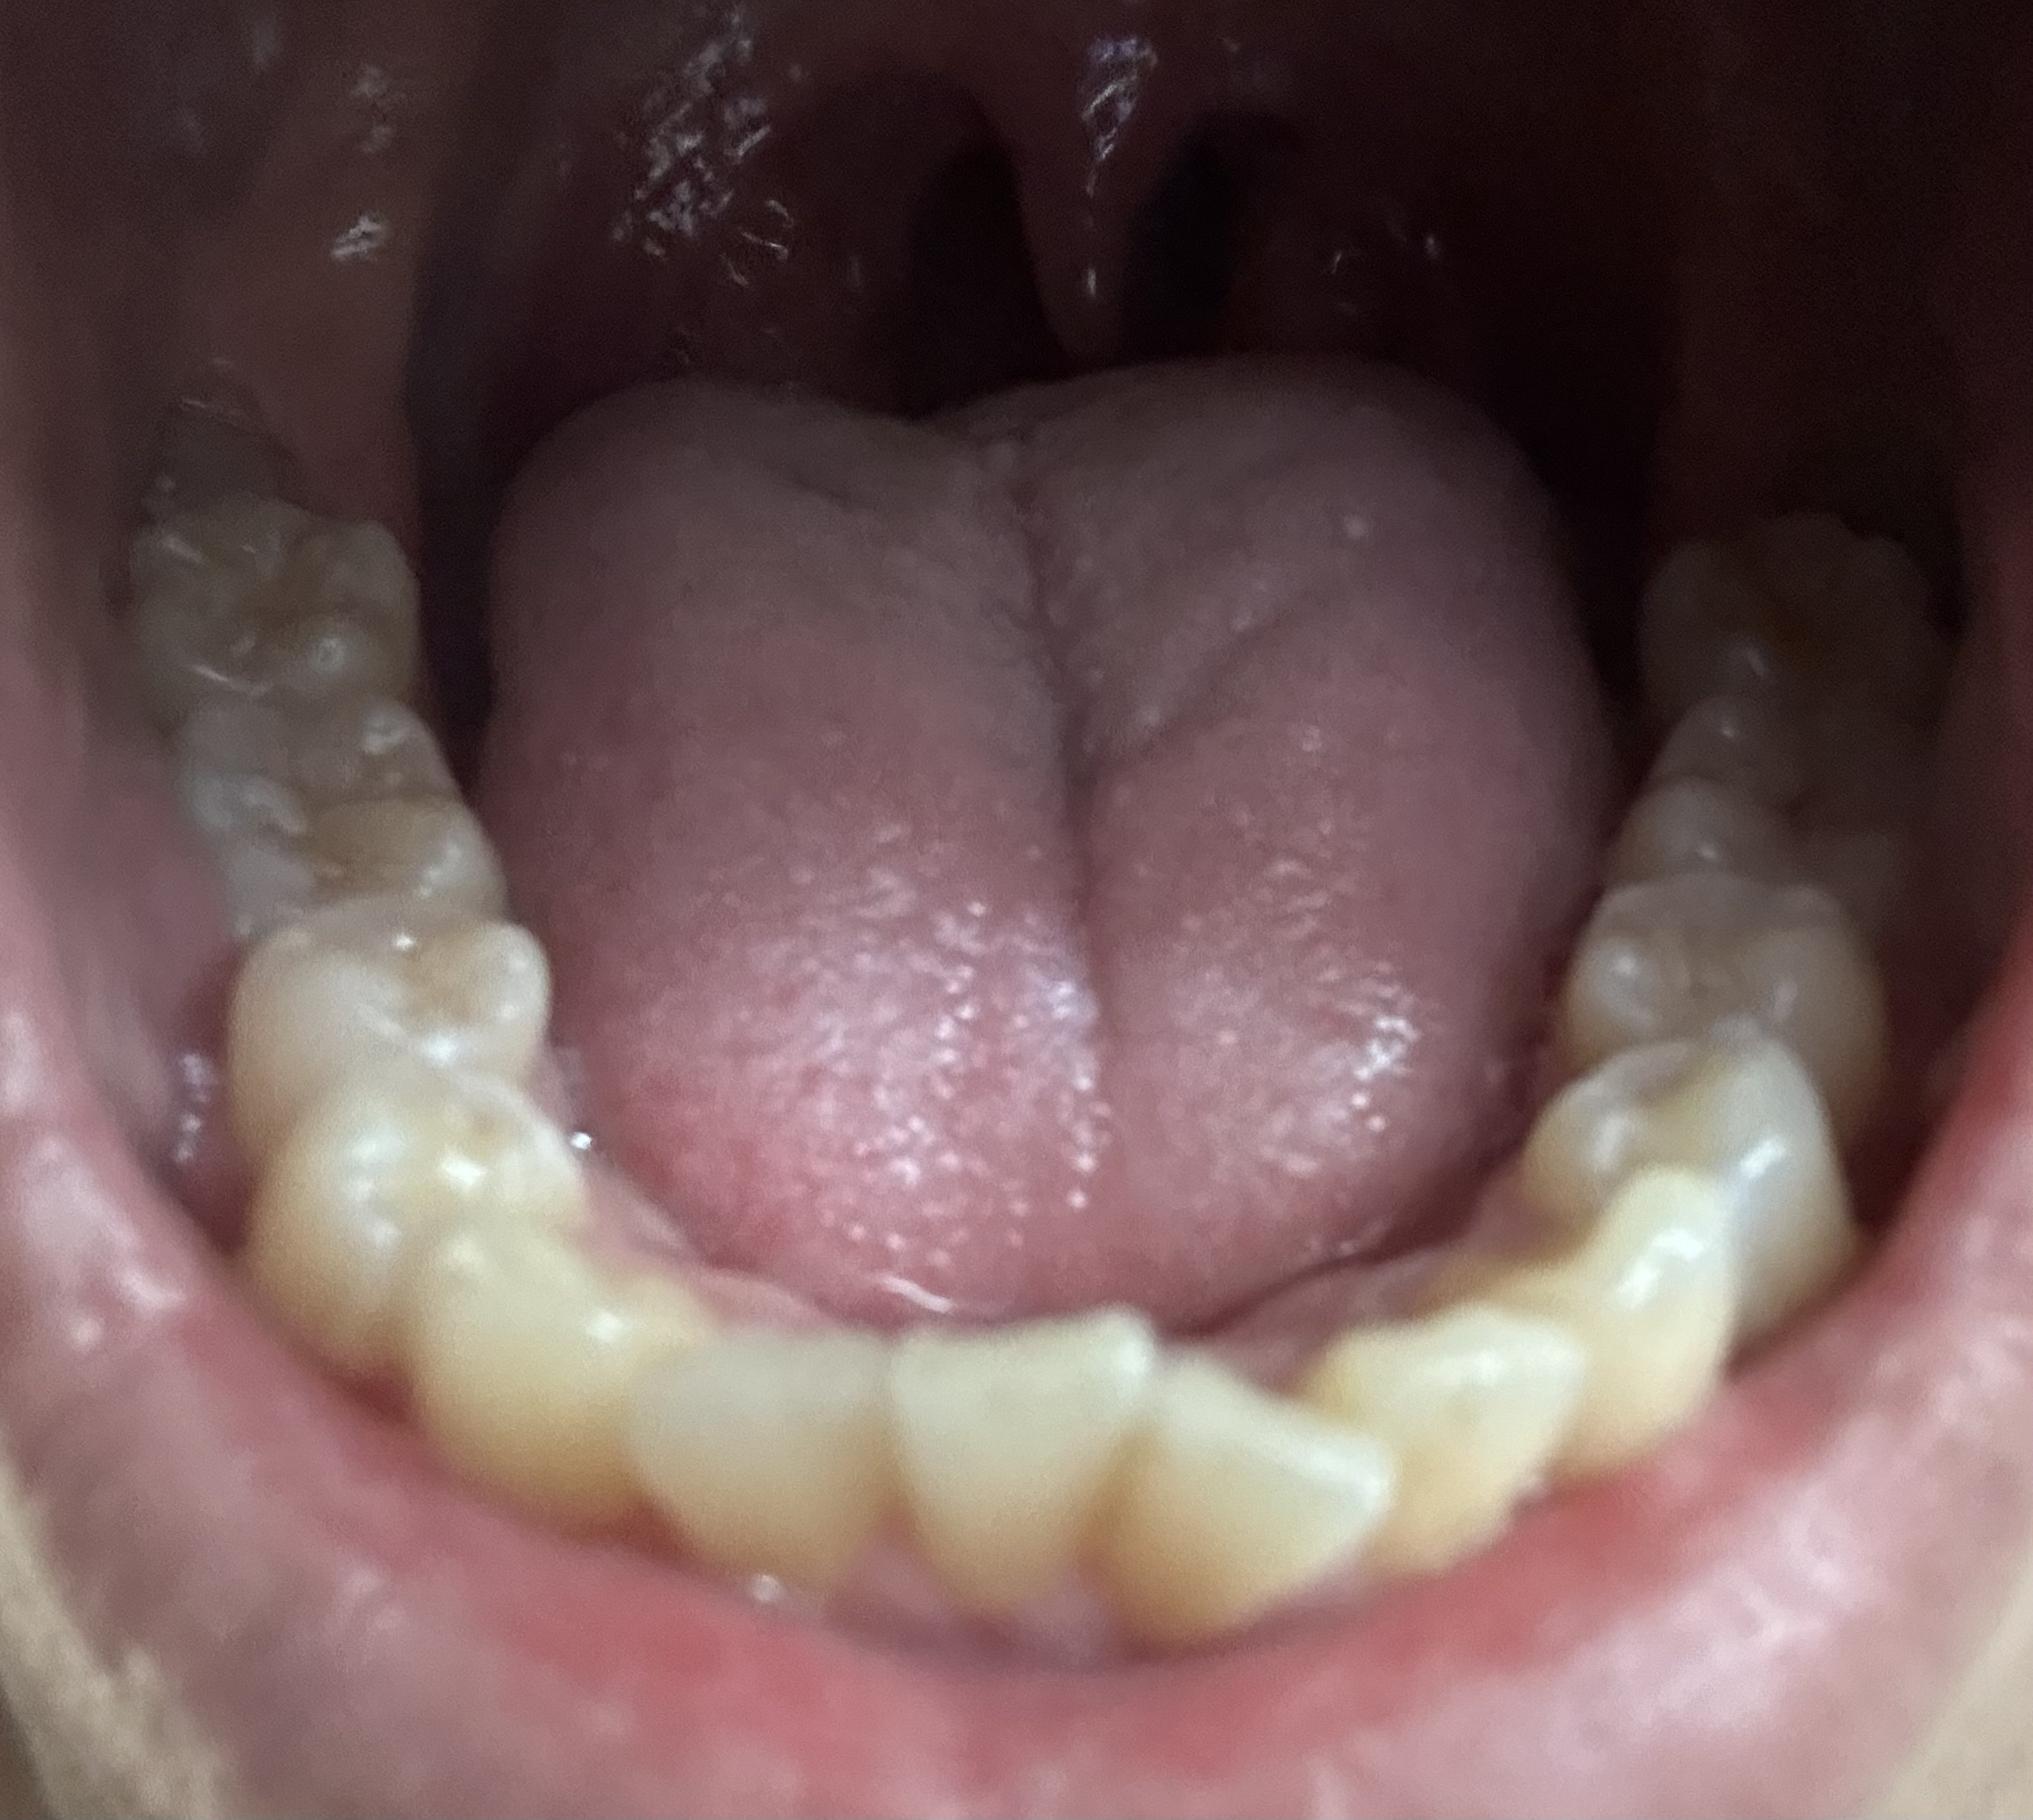teeth: (226, 1070, 592, 1397), (1526, 1021, 1870, 1339), (397, 1239, 709, 1535), (204, 914, 558, 1166), (1436, 1184, 1742, 1467), (1103, 1370, 1397, 1658), (1580, 892, 1907, 1137), (904, 1314, 1153, 1620), (1608, 720, 1933, 952), (636, 1328, 888, 1623), (121, 495, 418, 711), (190, 701, 495, 910), (1327, 1335, 1571, 1572), (1652, 511, 1921, 726)
